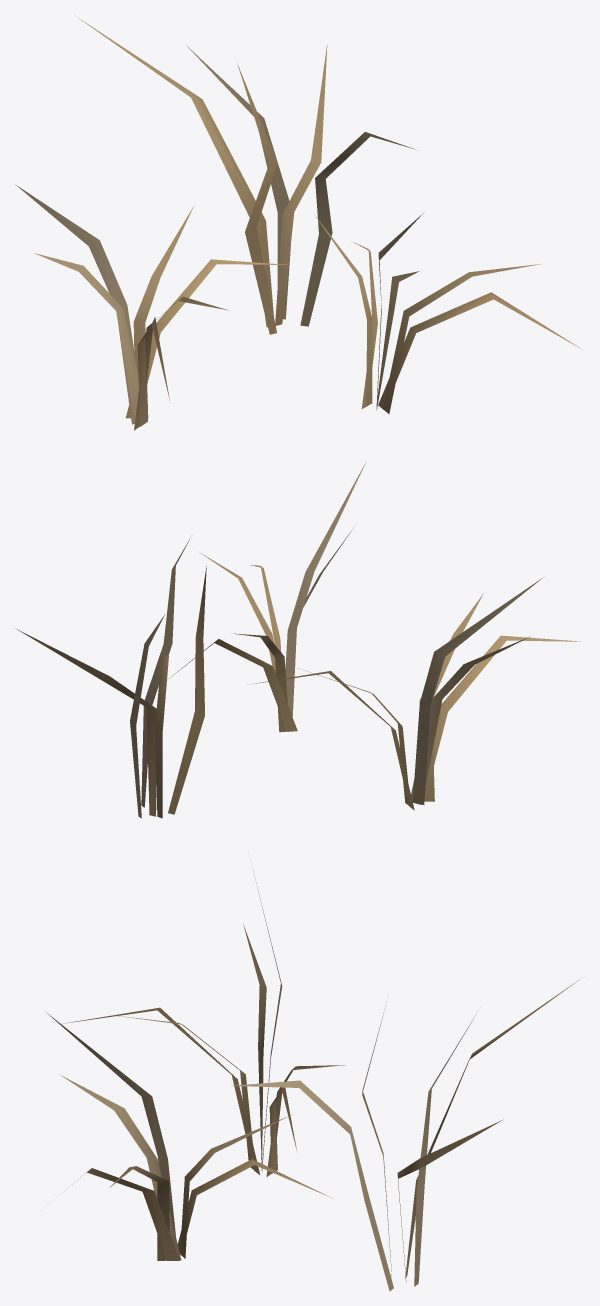
The model's file is Grass_f_OneS_05.fbx.
The picture shows the model from 3 angles, top to bottom: view 1: azimuth 30°, elevation 25°; view 2: azimuth 150°, elevation 25°; view 3: azimuth 270°, elevation 25°; orthographic projection. The views are drawn at different scales.
Visible parts, largest first — view 1: Grass_f_OneS_05; view 2: Grass_f_OneS_05; view 3: Grass_f_OneS_05.
Boxes of the visible parts, box(x1,y1,x2,y2) form: Grass_f_OneS_05: box(15, 16, 582, 430); Grass_f_OneS_05: box(16, 461, 581, 818); Grass_f_OneS_05: box(45, 870, 579, 1291).
Size of the model in its own units: 71.29 by 43.01 by 81.59.
